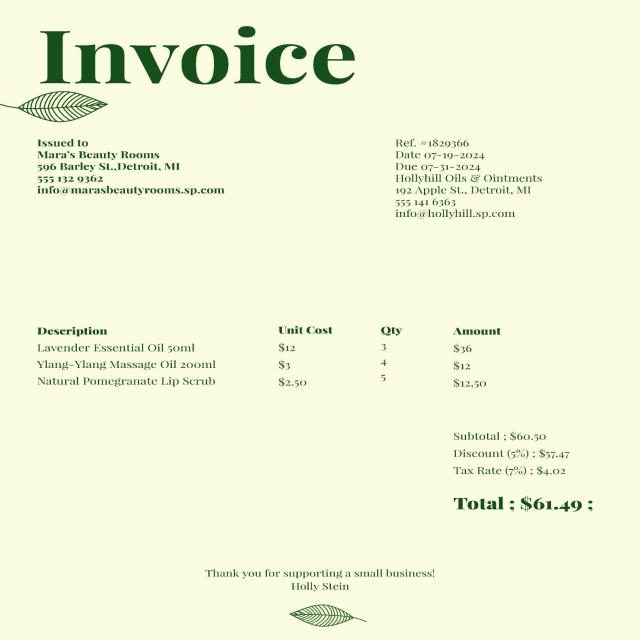paragraph: (26, 300, 518, 405), (32, 20, 364, 87), (371, 128, 572, 232), (201, 552, 450, 630), (23, 133, 242, 210), (428, 421, 596, 484), (444, 493, 604, 528), (0, 89, 117, 125)
